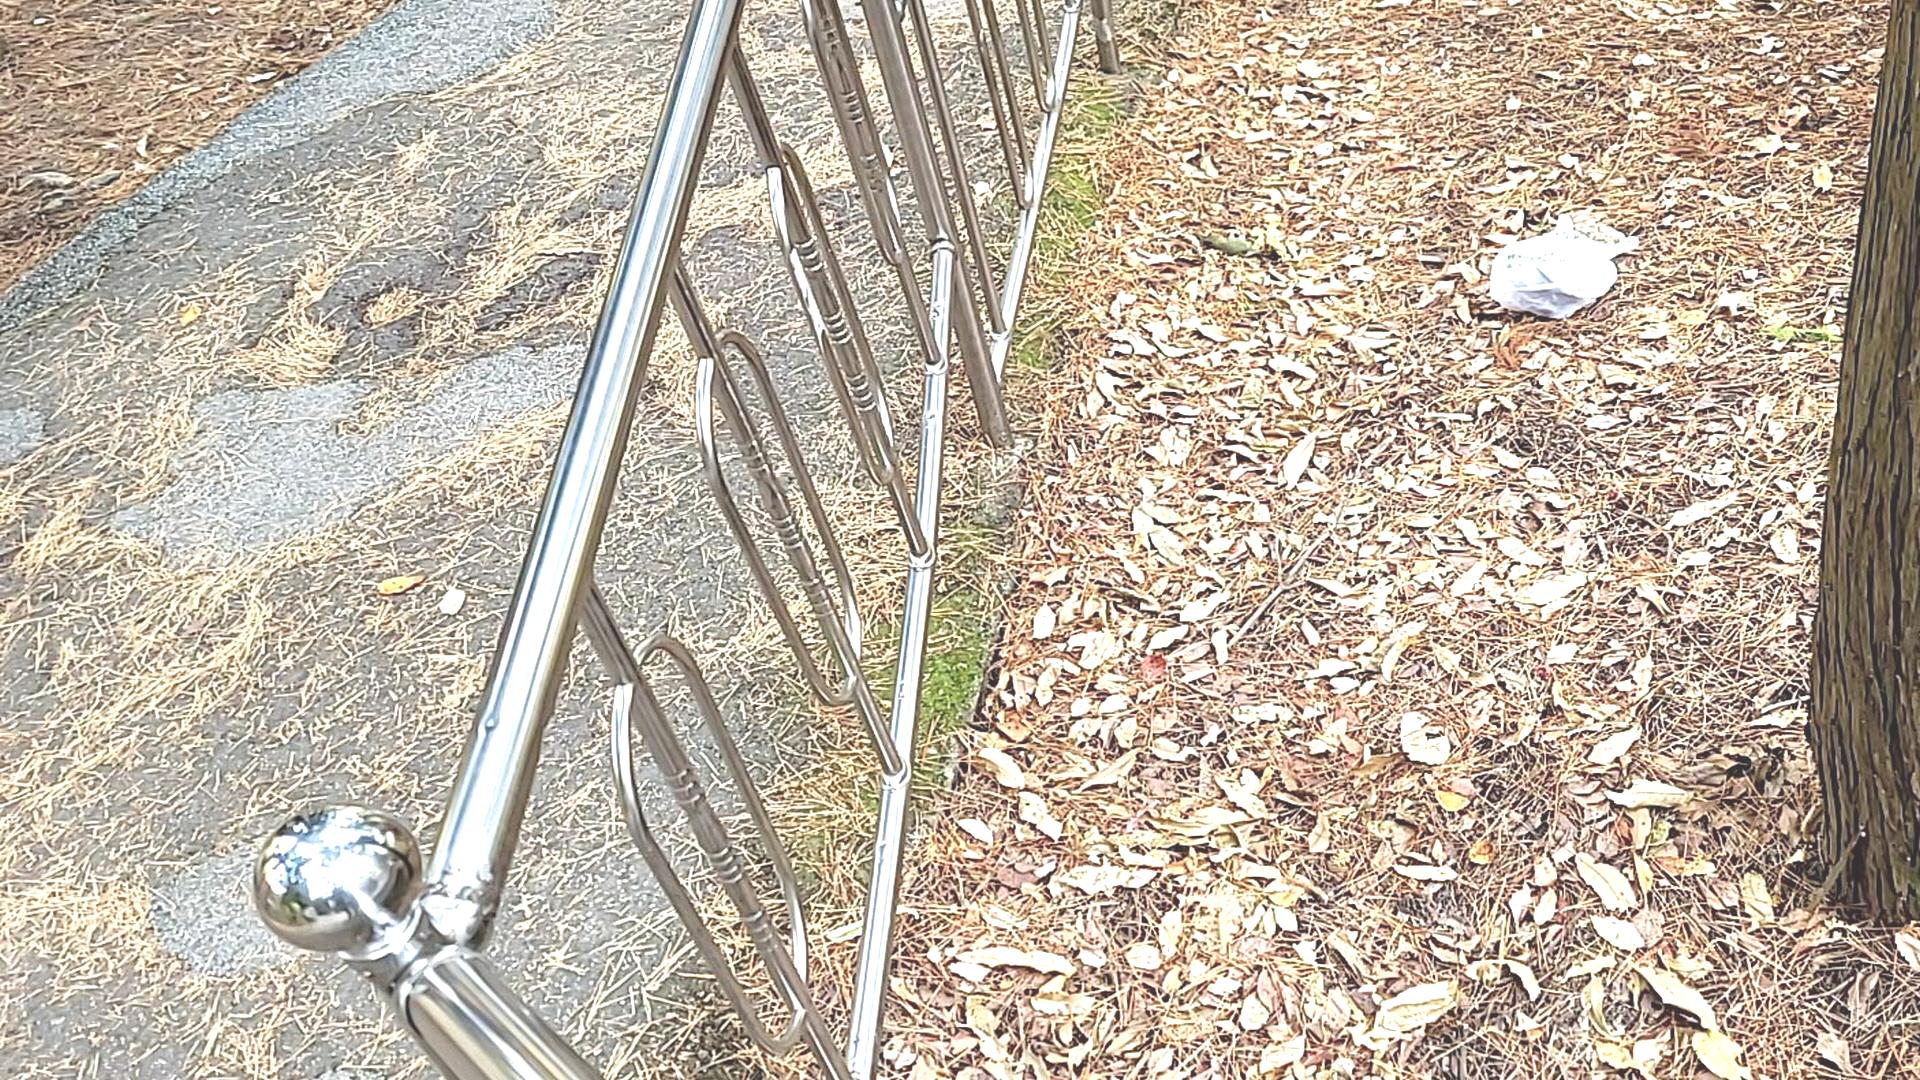white_bag: (1484, 212, 1643, 327)
